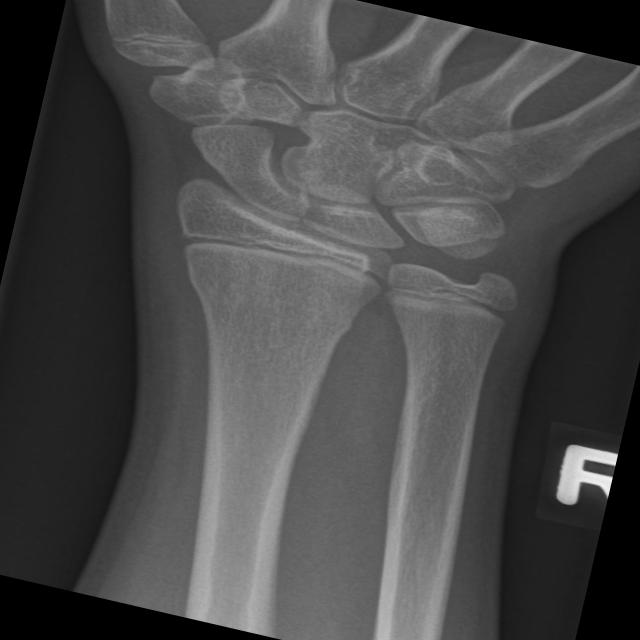fracture: (164, 206, 400, 306), (354, 256, 524, 344)
